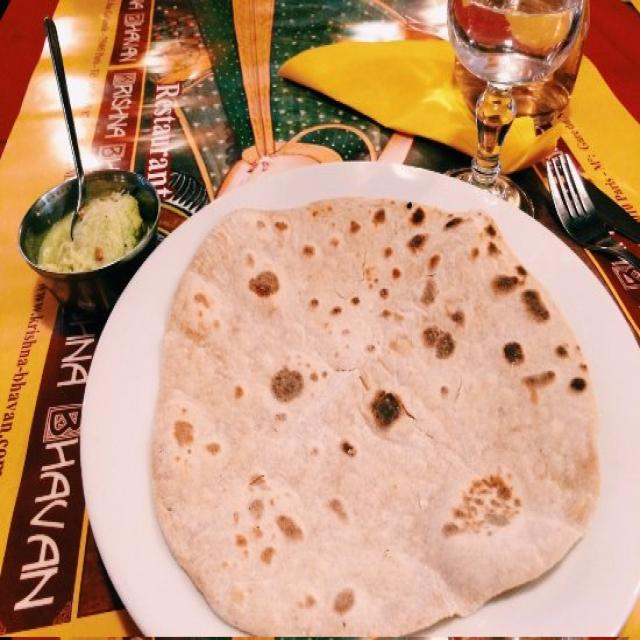ROTI: (150, 196, 598, 635)
